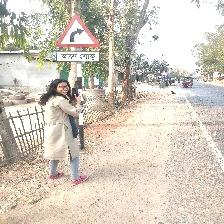Right-turn: (54, 12, 101, 65)
